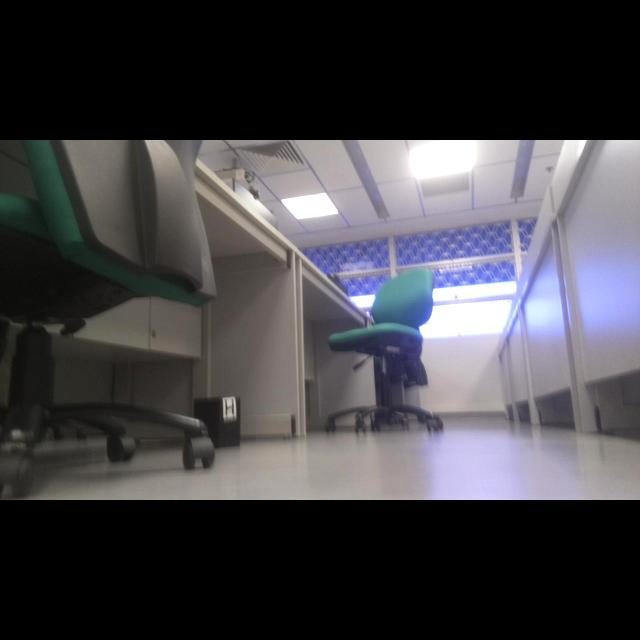H: (225, 398, 234, 416)
